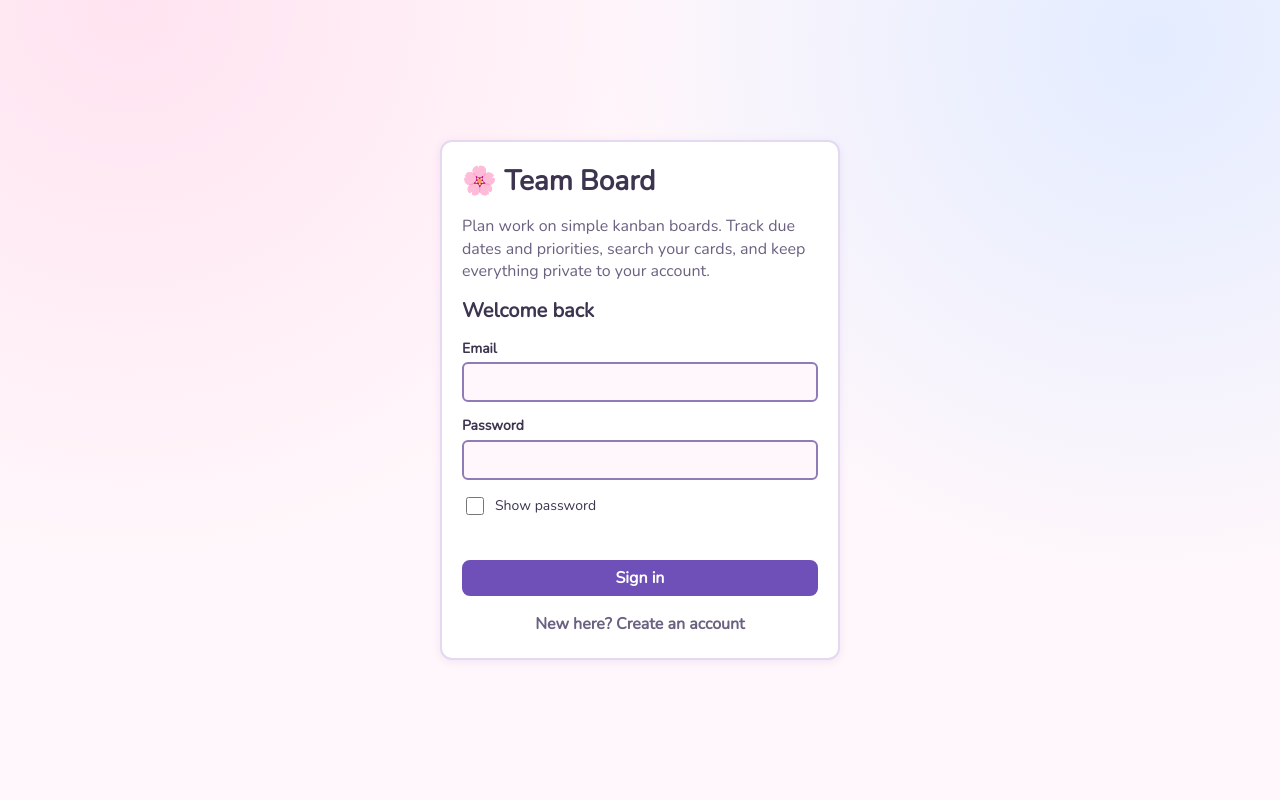
AuthScreen › shows friendly words, never the raw server message
Type "me@example.com" into the field labelled "Email".
click(640, 382); type("me@example.com")  # box left=462, top=362, right=818, bottom=402
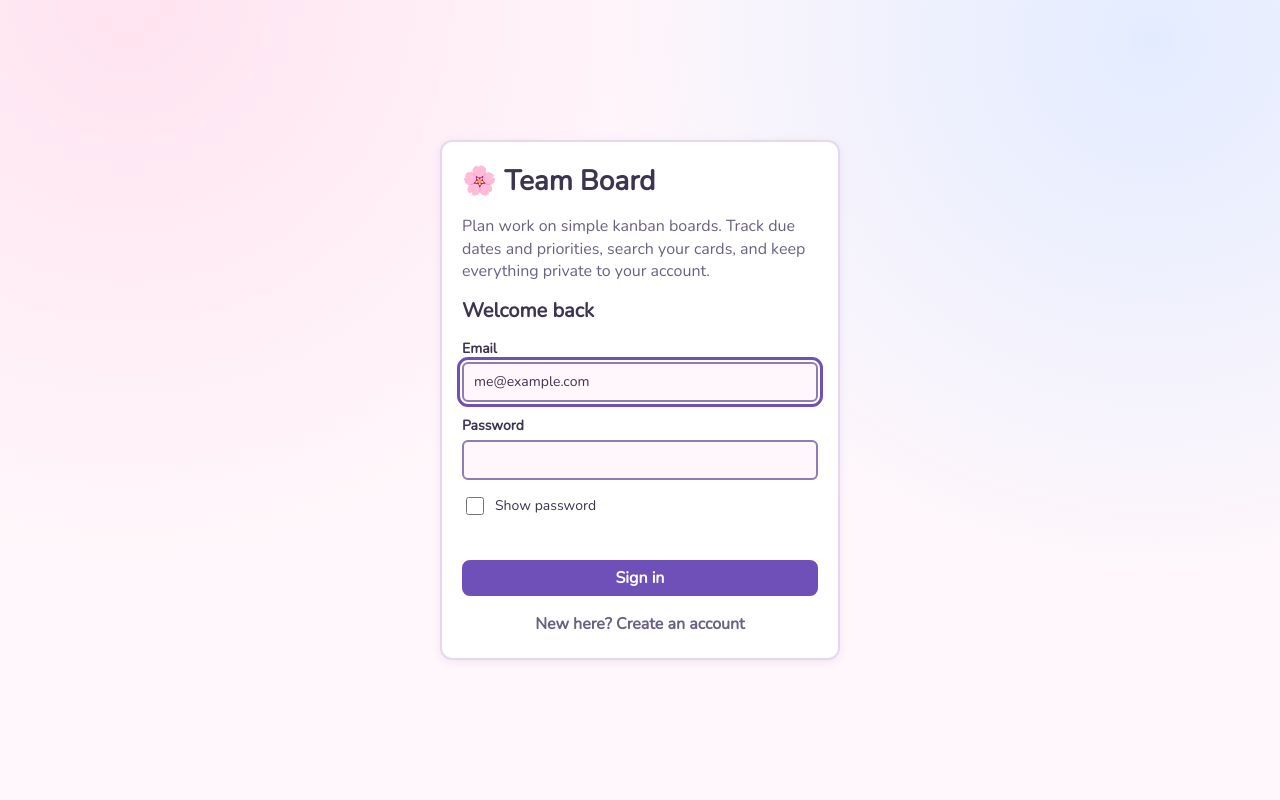
Type "wrong-password" into the password field labelled "Password".
click(640, 460); type("wrong-password")  # box left=462, top=440, right=818, bottom=480
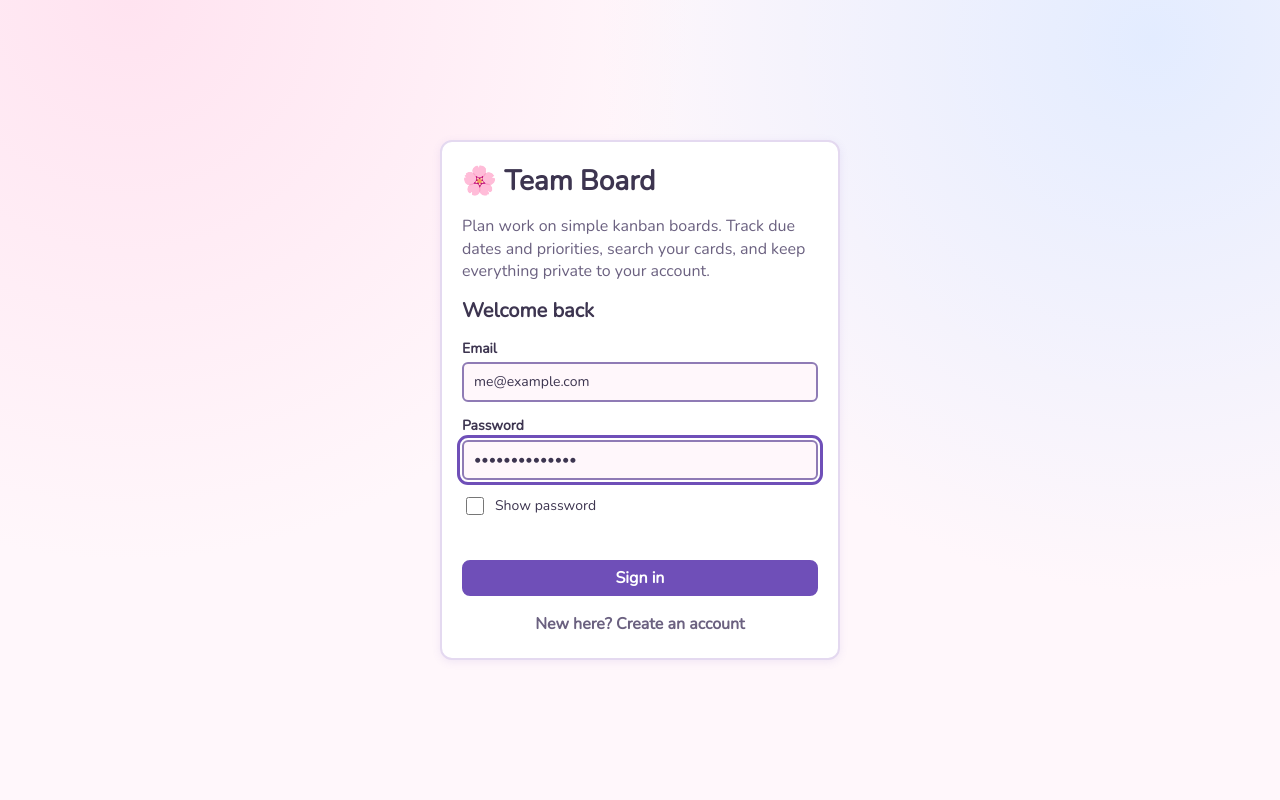
Click the button "Sign in".
click(640, 578)  # box left=462, top=560, right=818, bottom=596
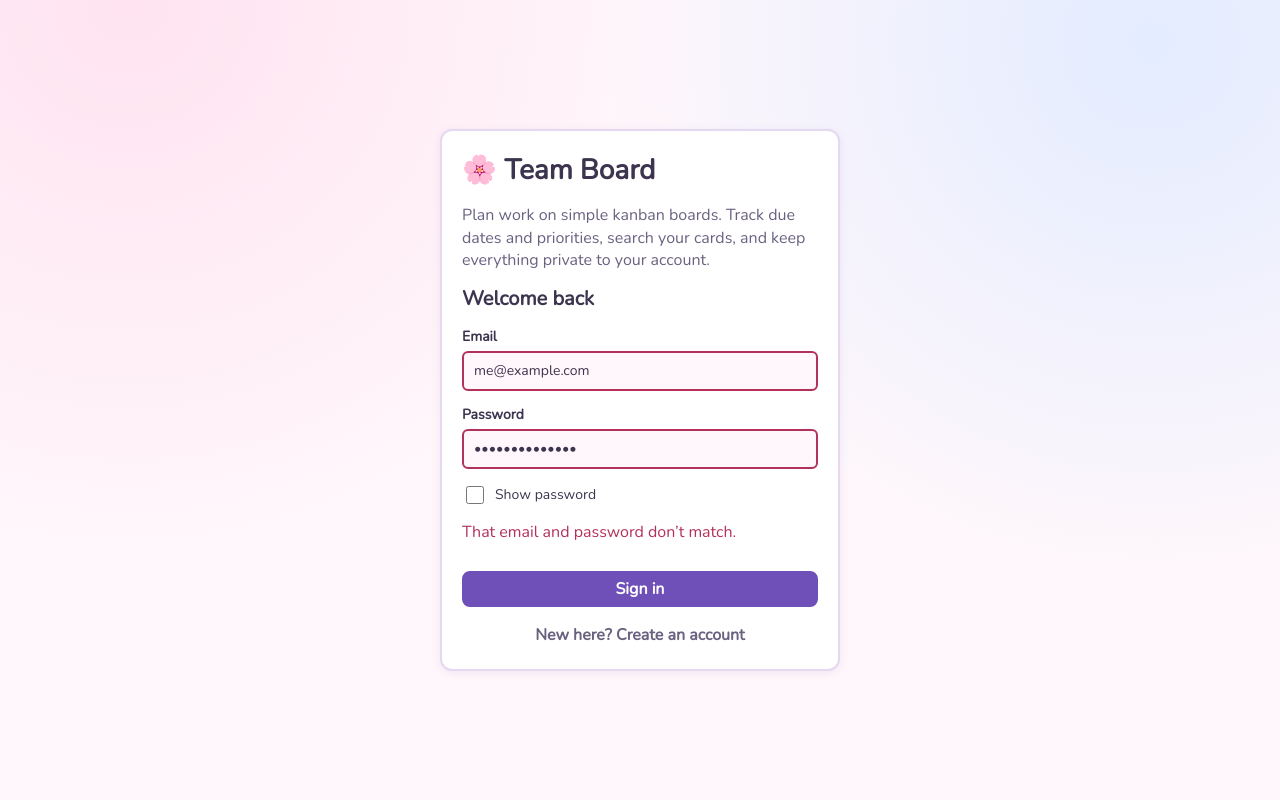
Expected: the message reads "That email and password don’t match.", left=462, top=521, right=736, bottom=543
